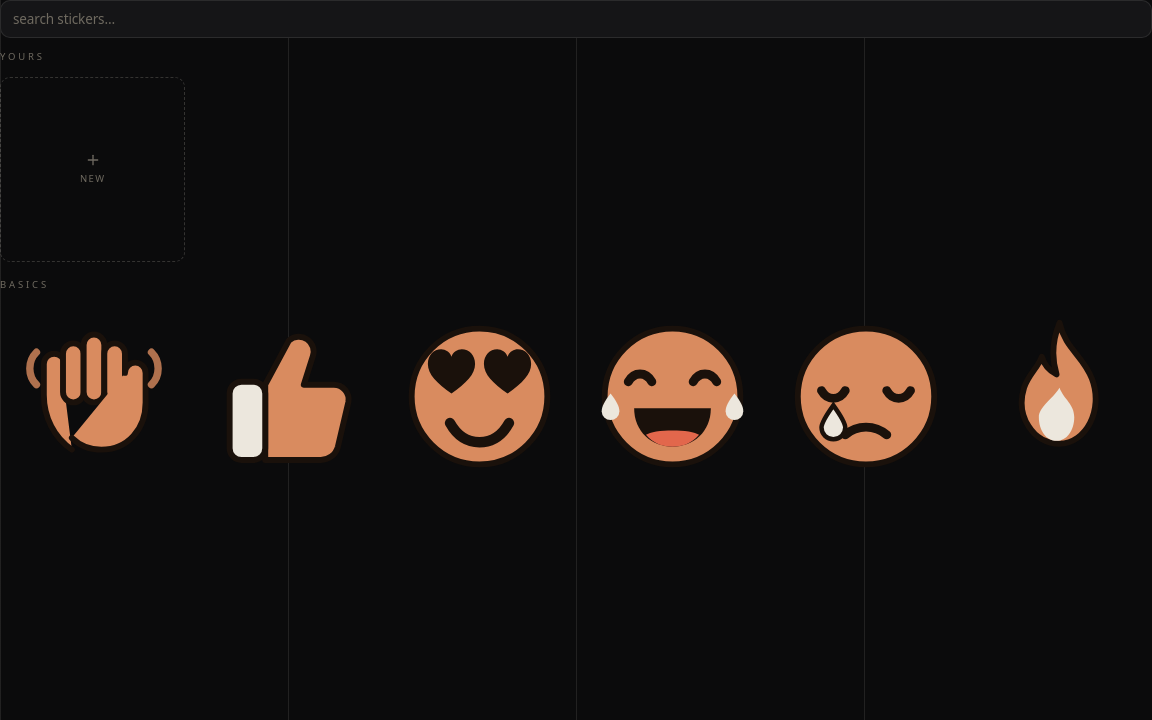
it: StickerPicker › filters the grid as the search box is typed
Type "love" into the field with placeholder "search stickers…".
click(576, 19); type("love")  # box [0, 0, 1151, 38]
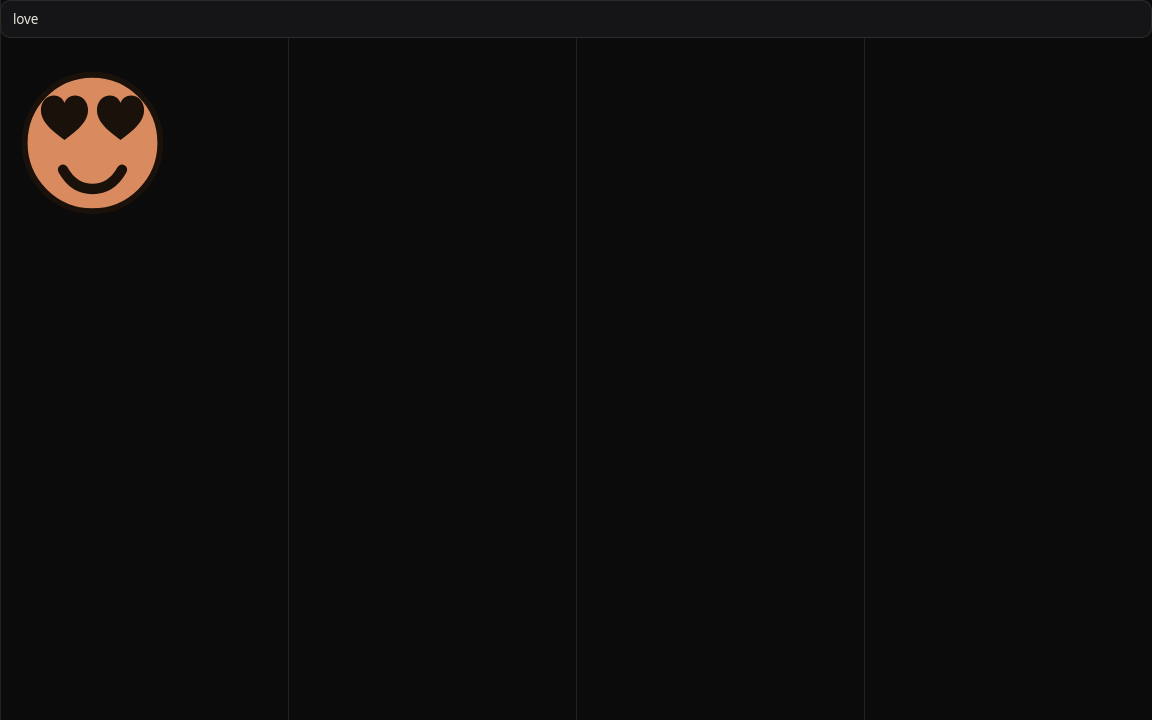
Expected: the button titled "heart-eyes" is shown, [0, 50, 185, 236]
Expected: the picture titled "wave" is gone
